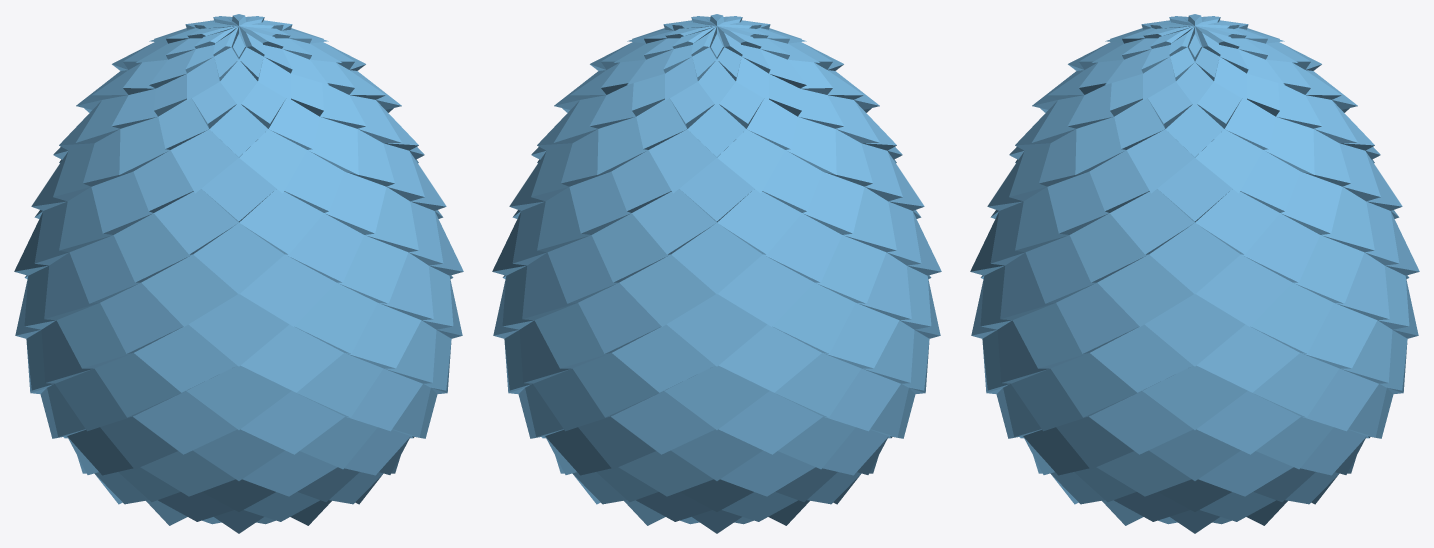
The model's file is drgn egg2.fbx.
3 renders of one model, left to right at view 1: azimuth 30°, elevation 25°; view 2: azimuth 150°, elevation 25°; view 3: azimuth 270°, elevation 25°, orthographic.
Visible parts, largest first — view 1: pSphere5; view 2: pSphere5; view 3: pSphere5.
Boxes of the visible parts, left/top/right/bottom form: pSphere5: left=14, top=14, right=463, bottom=533; pSphere5: left=492, top=14, right=941, bottom=533; pSphere5: left=970, top=14, right=1419, bottom=533.
Size of the model in its own units: 5.92 by 6.88 by 5.92.
